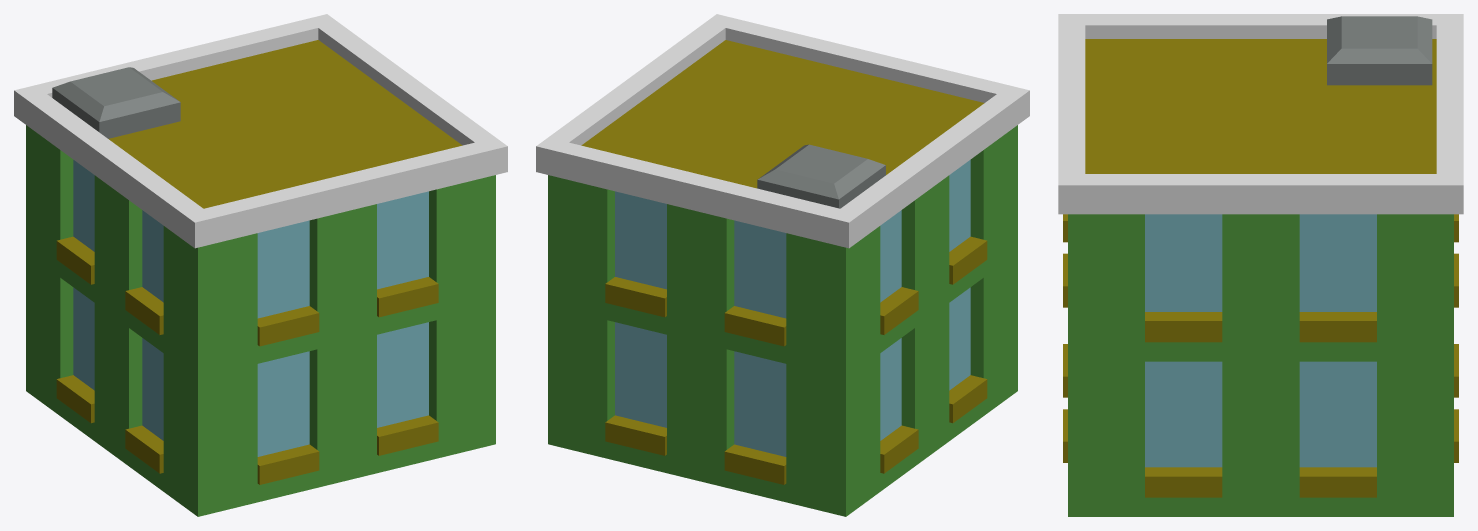
File: buildingE.fbx
3 views of the same model, side by side, from view 1: azimuth 30°, elevation 25°; view 2: azimuth 150°, elevation 25°; view 3: azimuth 270°, elevation 25° (orthographic). The views are drawn at different scales.
Parts seen in each view (by area): view 1: BuildingE; view 2: BuildingE; view 3: BuildingE.
Boxes of the visible parts, x1=… form: BuildingE: x1=14, y1=14, x2=507, y2=516; BuildingE: x1=536, y1=14, x2=1029, y2=516; BuildingE: x1=1058, y1=14, x2=1463, y2=516.
Bounding box in the file's own units: 840 × 806 × 840.
